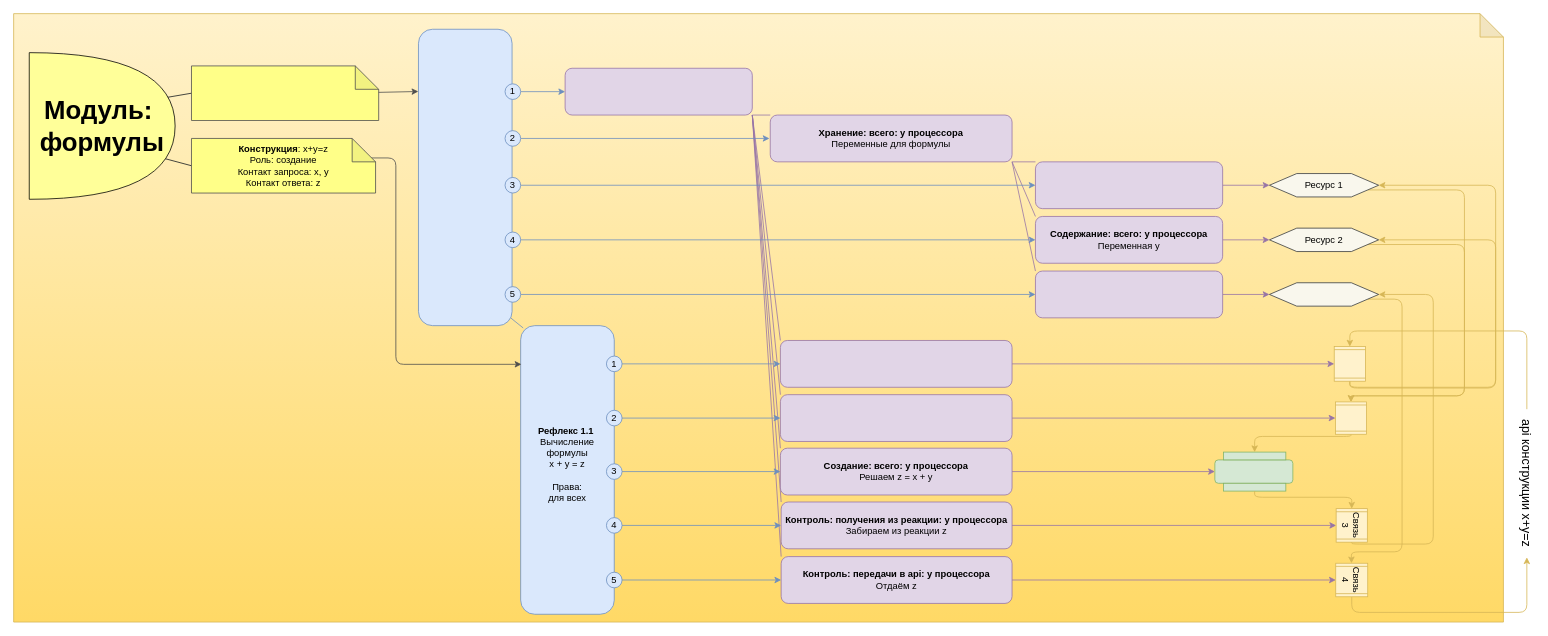
The diagram is 1548 pixels wide and 636 high, and some of its shapes have lost their labels. Each missing label, with the box of its shape:
Конструкция : подготовка Роль: хранение Контакт ответа: *, *, * Автозапуск: (191, 65, 379, 121)
Контроль: передачи в реакцию: у процессора Загружаем x и y в реакцию: (780, 394, 1012, 441)
Контроль: получения из api : у процессора Получаем x и y: (780, 340, 1012, 387)
Реакция 1: (1214, 459, 1293, 483)
Ресурс 3: (1269, 282, 1379, 306)
Рефлекс 1 Адаптация Права: для всех: (418, 28, 512, 326)
Связь 1: (1333, 346, 1365, 381)
Связь 2: (1335, 401, 1367, 434)
Содержание: всего: у процессора Переменная x: (1035, 161, 1223, 209)
Содержание: всего: у процессора Переменная z: (1035, 270, 1223, 318)
Хранение: всего: у процессора Память: (564, 67, 752, 115)
